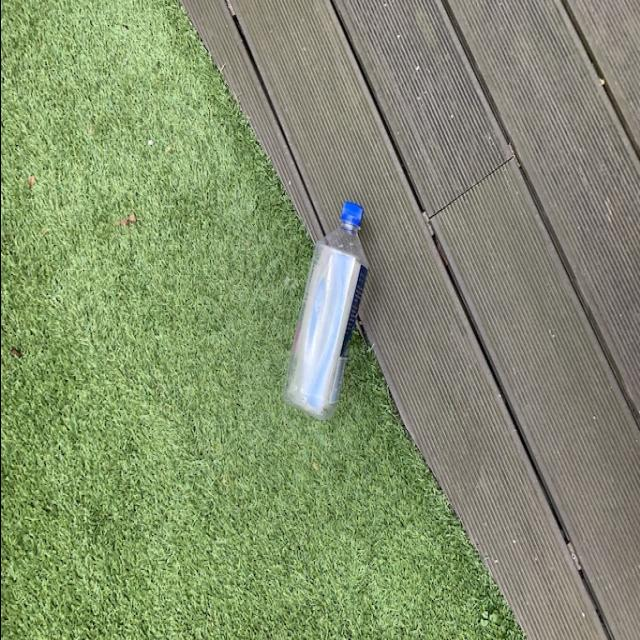PET: (279, 198, 370, 426)
